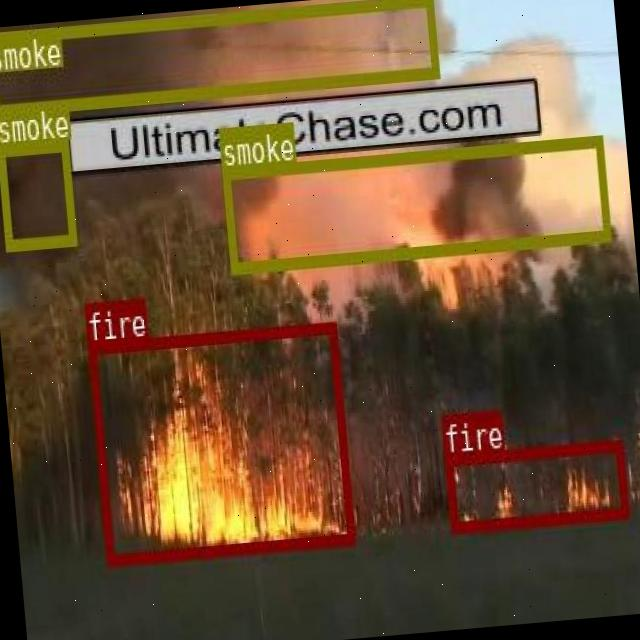fire: (88, 321, 352, 564), (443, 440, 627, 530)
smoke: (221, 134, 610, 272), (0, 0, 438, 115), (0, 138, 75, 248)
